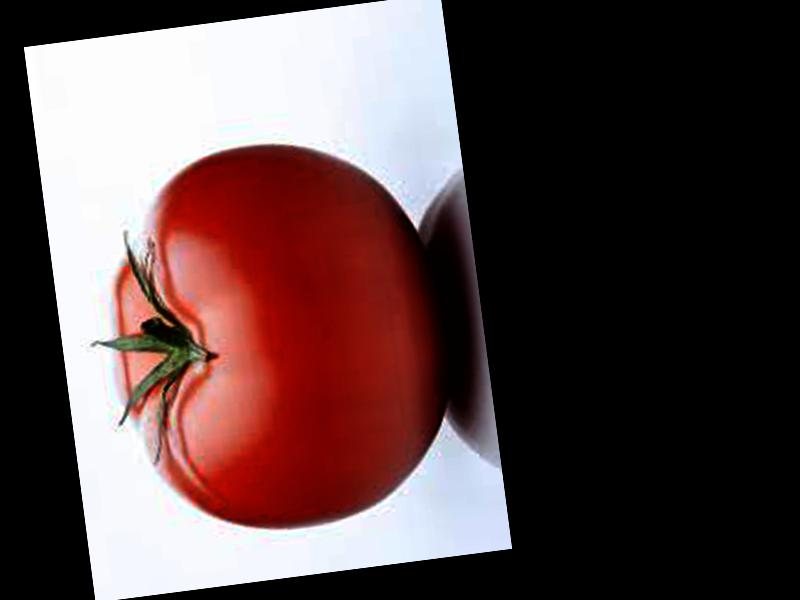Tomato: (92, 127, 463, 548)
